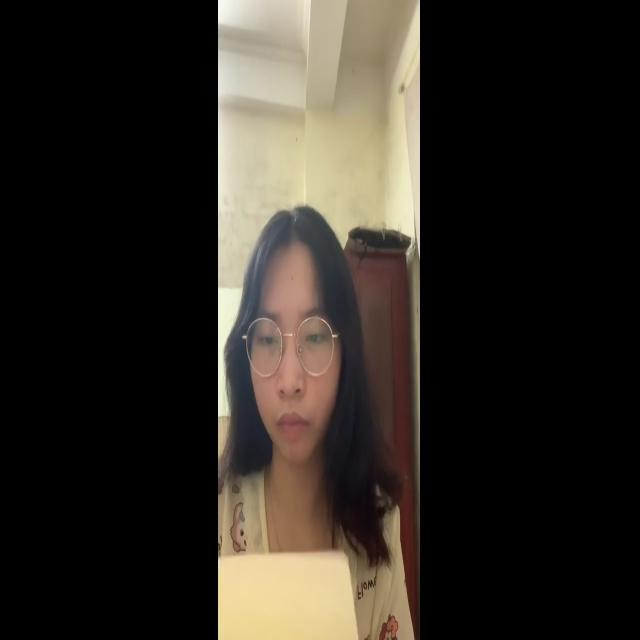book: (220, 532, 360, 638)
student: (238, 211, 341, 464)
